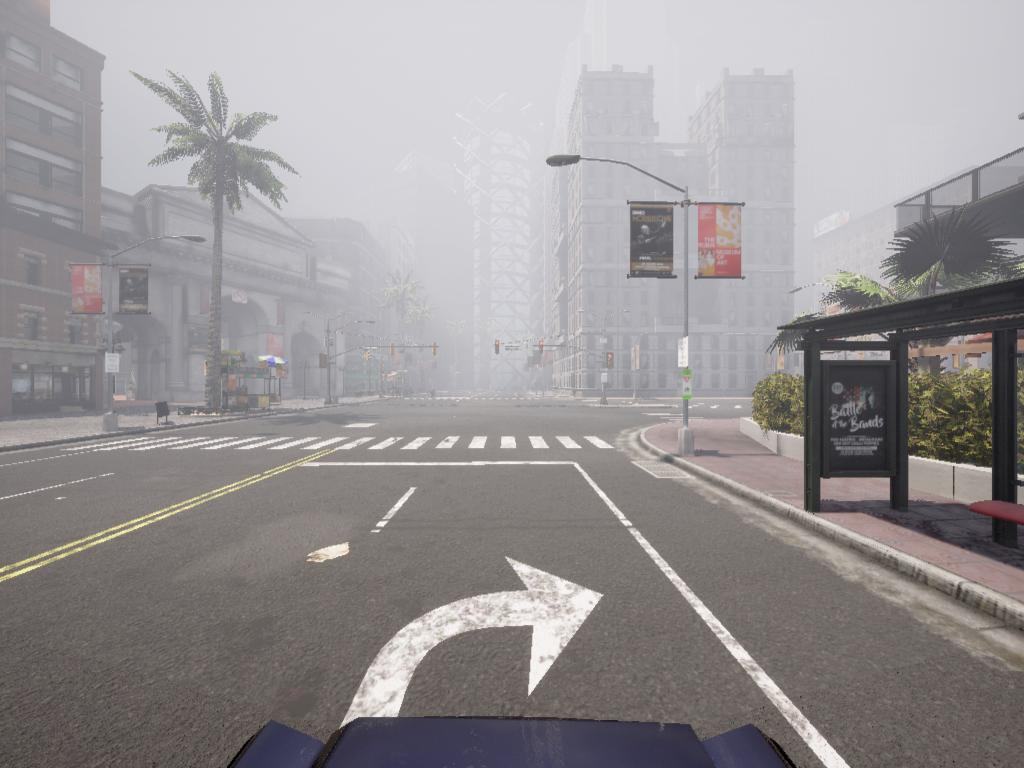traffic_light: (606, 353, 616, 368), (539, 340, 545, 355), (496, 341, 501, 356)
